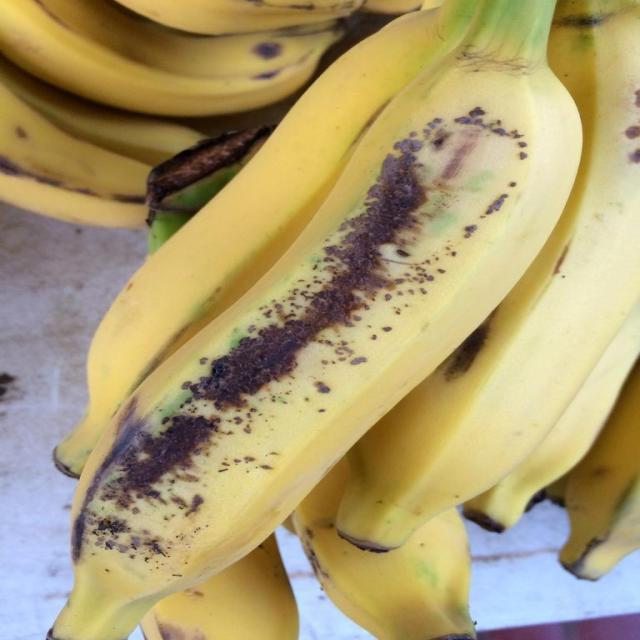banana: (46, 0, 583, 640)
